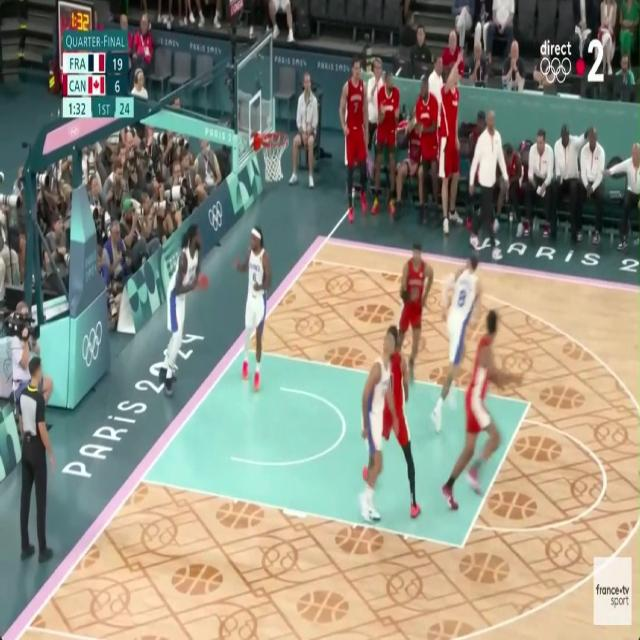ball_handler: (161, 222, 209, 394)
